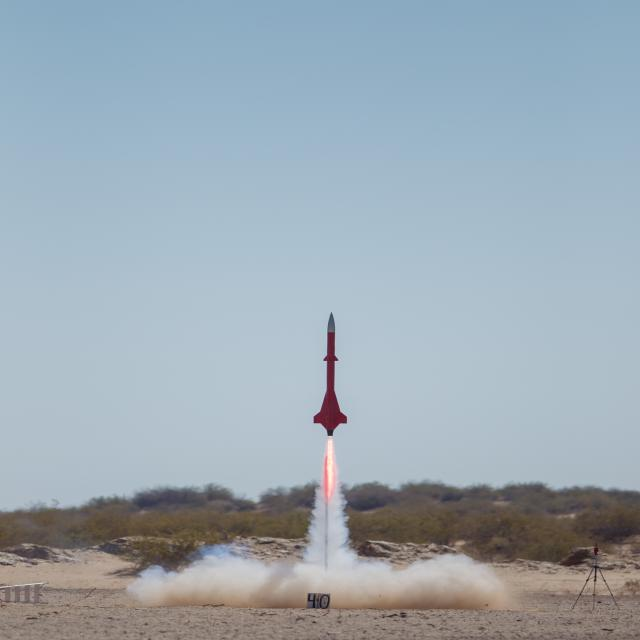Rocket: (312, 311, 348, 437)
